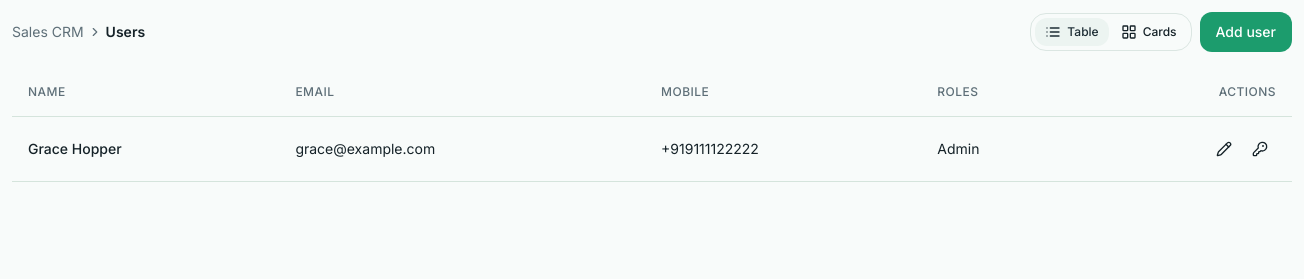
CRM modules › switches users between table and cards
The width and height of the screenshot is (1304, 279).
Check: the column heading "Name" is shown, box [12,68,279,116]
Check: the text "grace@example.com" is shown, box [279,116,645,181]
Click the button with aria-label "Card view" at x=1149, y=32, box [1111,18,1186,46]
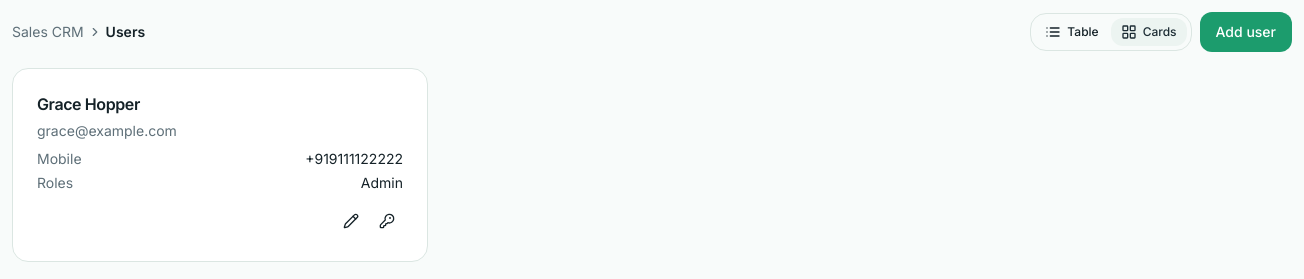
Check: the text "Grace Hopper" is shown, box [37,94,140,114]
Check: the column heading "Name" is gone
Click the button with aria-label "Table view" at x=1072, y=32, box [1035,18,1109,46]
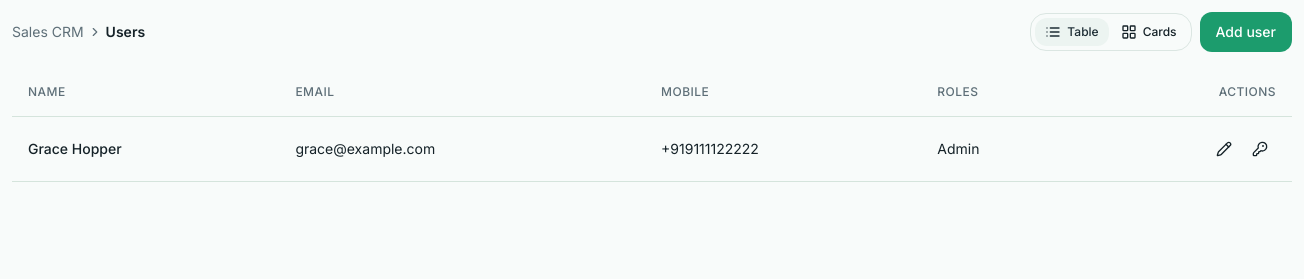
Check: the column heading "Name" is shown, box [12,68,279,116]
